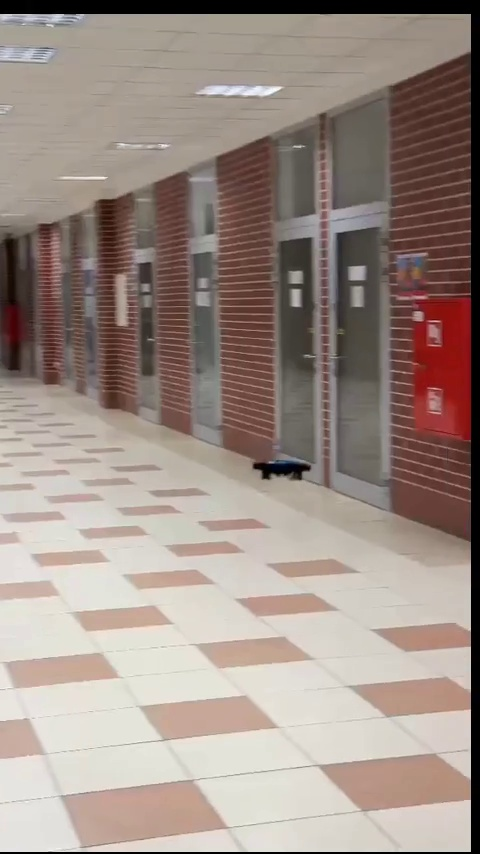drone: (252, 458, 313, 484)
